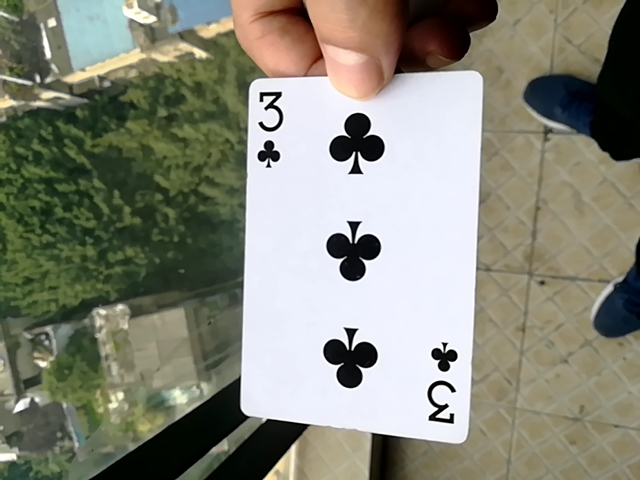mh 3: (230, 59, 478, 446)
